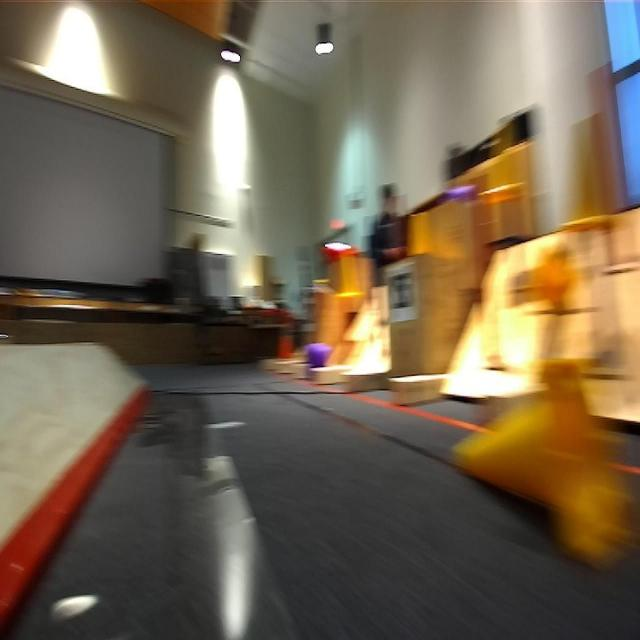frc_cone: (446, 351, 632, 574), (569, 115, 616, 230), (535, 241, 581, 307), (482, 120, 518, 204), (333, 250, 365, 300), (404, 204, 431, 257)
frc_cube: (442, 182, 480, 204), (306, 339, 328, 372)
